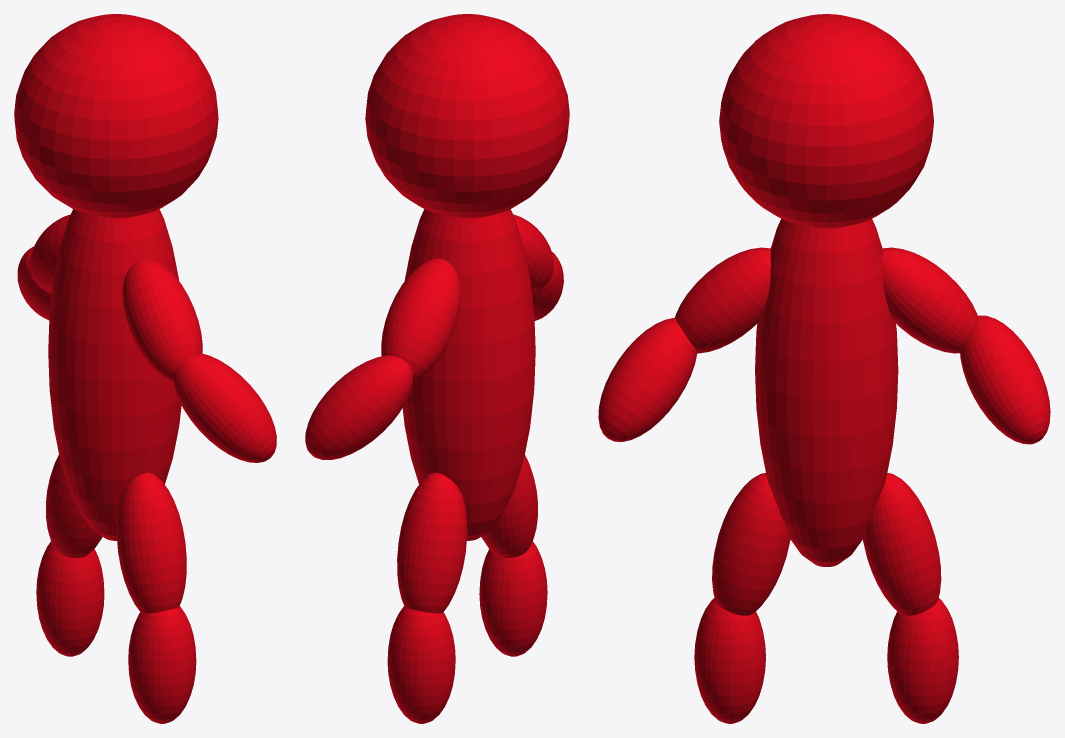
Rendered from player.glb.
The picture shows the model from 3 angles, left to right: view 1: azimuth 30°, elevation 25°; view 2: azimuth 150°, elevation 25°; view 3: azimuth 270°, elevation 25°; orthographic projection. The views are drawn at different scales.
Parts seen in each view (by area): view 1: Body; view 2: Body; view 3: Body.
Part boxes in pixels (x1=…): Body: x1=14, y1=14, x2=276, y2=723; Body: x1=305, y1=14, x2=569, y2=723; Body: x1=598, y1=14, x2=1050, y2=723.
Bounding box in the file's own units: 0.6 × 2.15 × 1.26.
